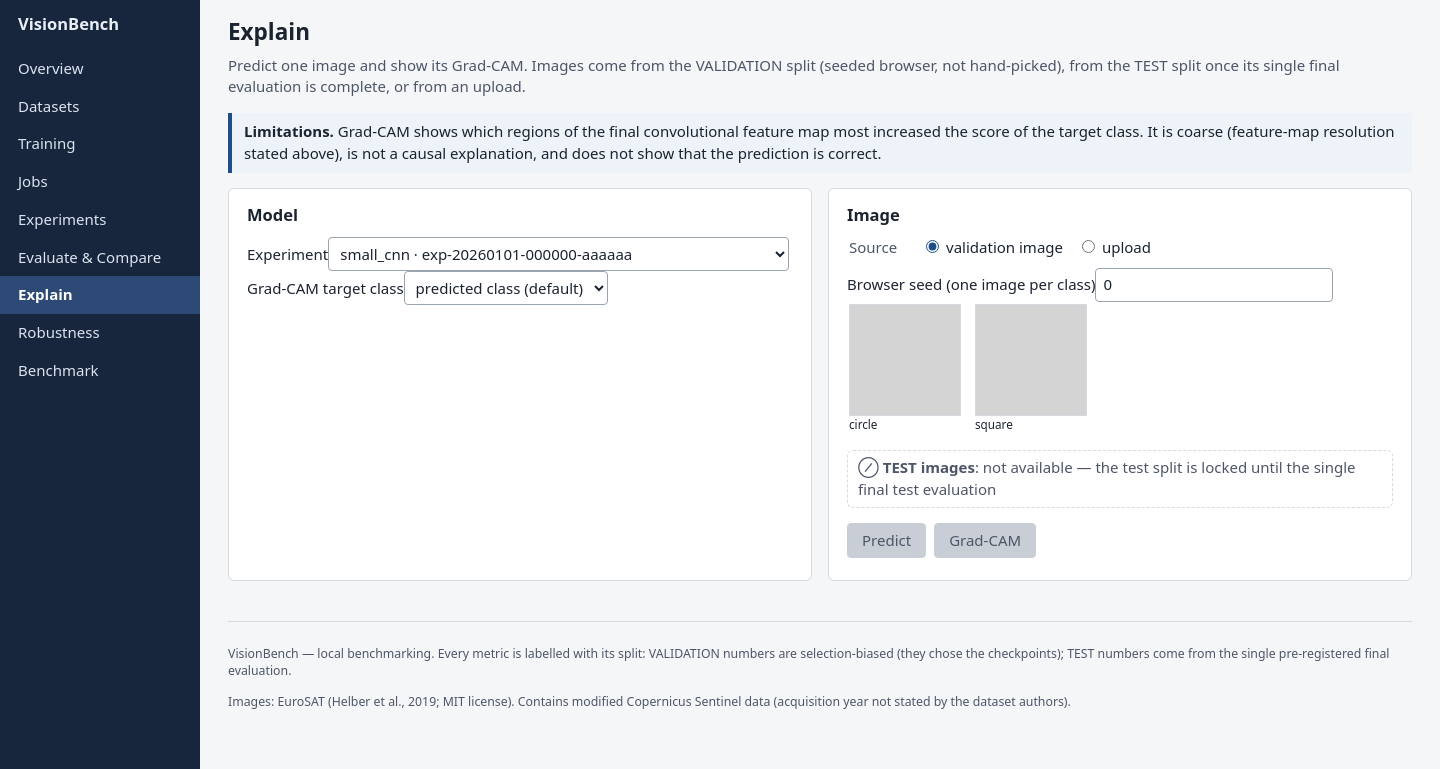
Scenario: Explain › predicts and explains a VAL image with the client header
What coordinates should you click on to do the following:
click the button named "circle: circle/c1.png"
I would click on:
 (905, 368)
Its box is [847,302,963,435].
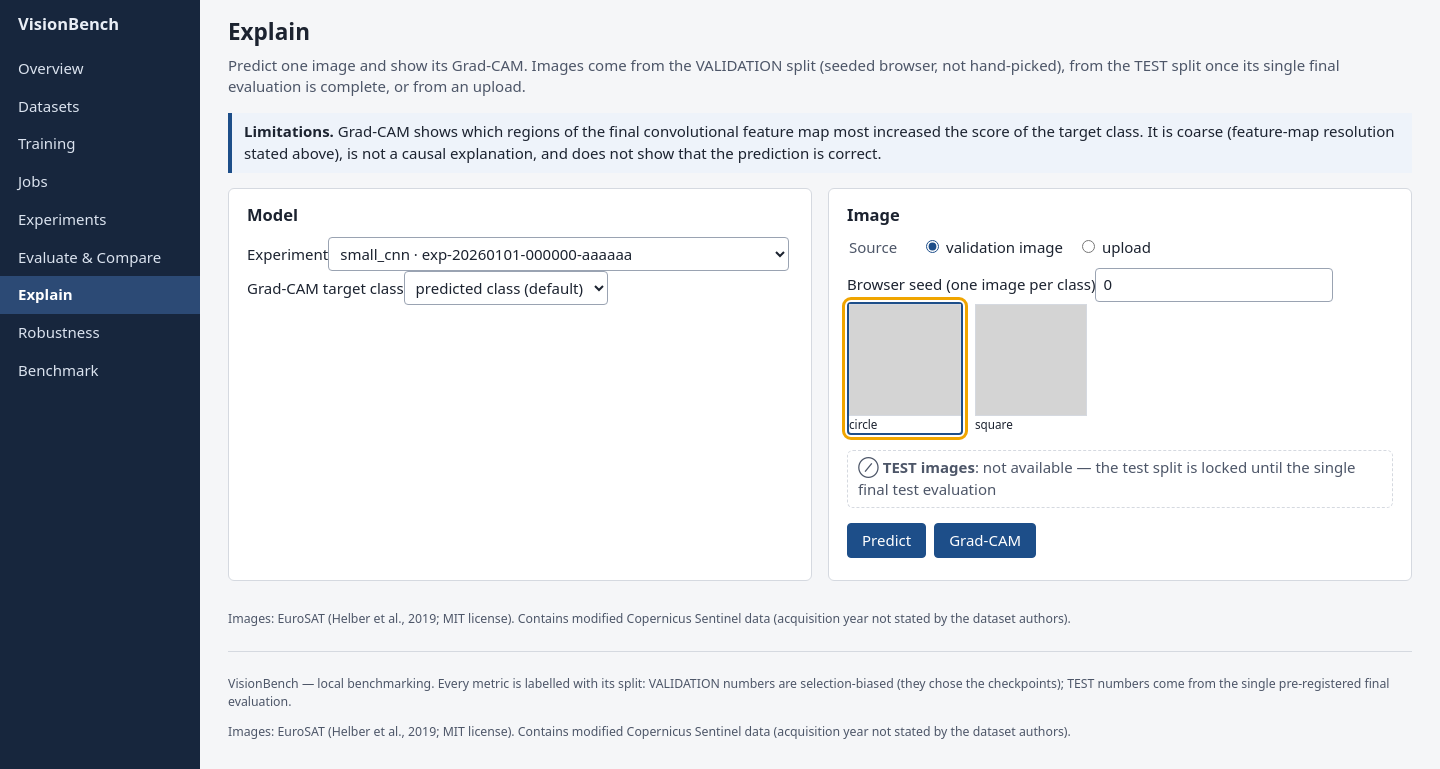
What coordinates should you click on to do the following:
click the button "Predict"
I would click on:
 (887, 540)
Its box is [847,522,926,558].
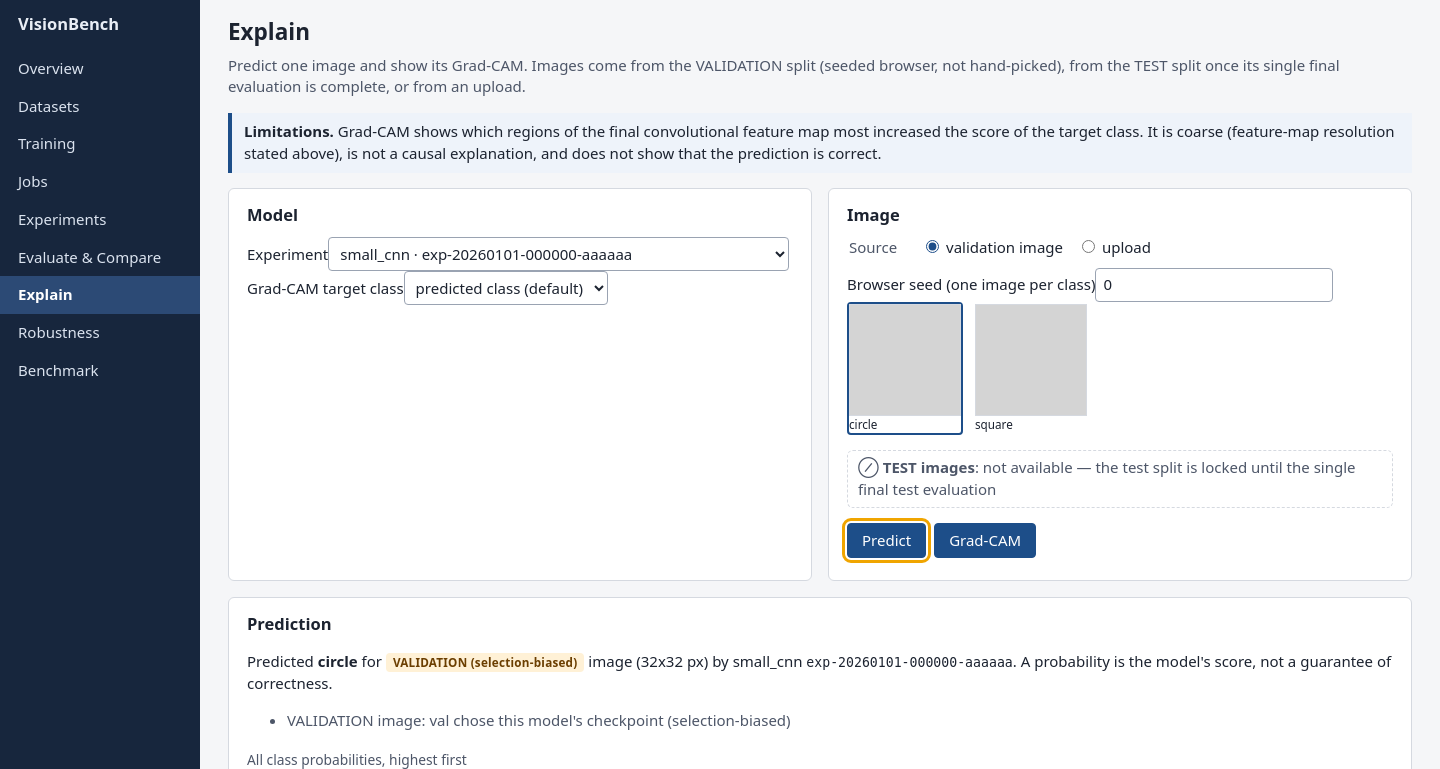
What coordinates should you click on to do the following:
click the button "Grad-CAM"
I would click on:
 (985, 540)
Its box is [934,522,1036,558].
(page scrolled)
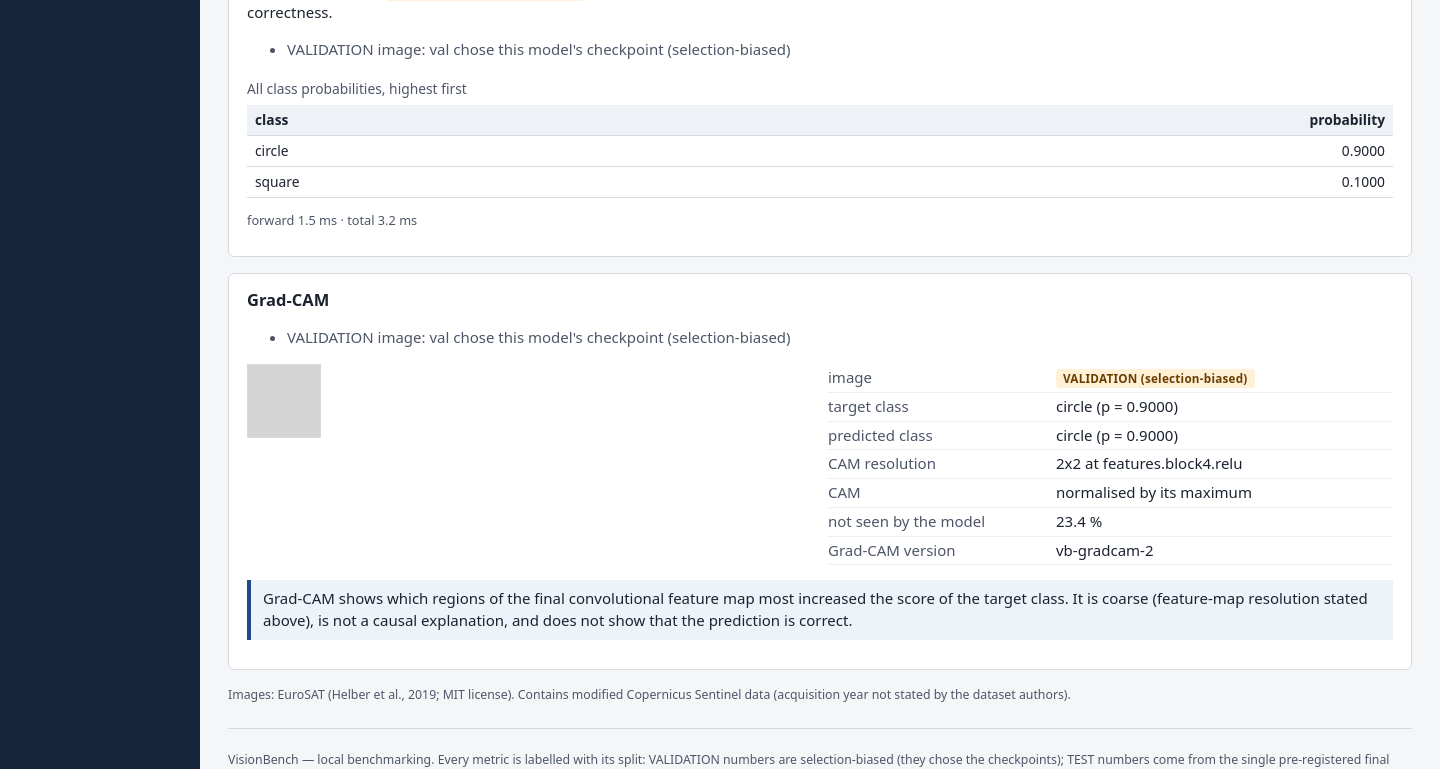
Check: the text "2x2 at features.block4.relu" is shown, box [1056,453,1242,473]
Check: the text "23.4 %" is shown, box [1056,511,1102,531]
